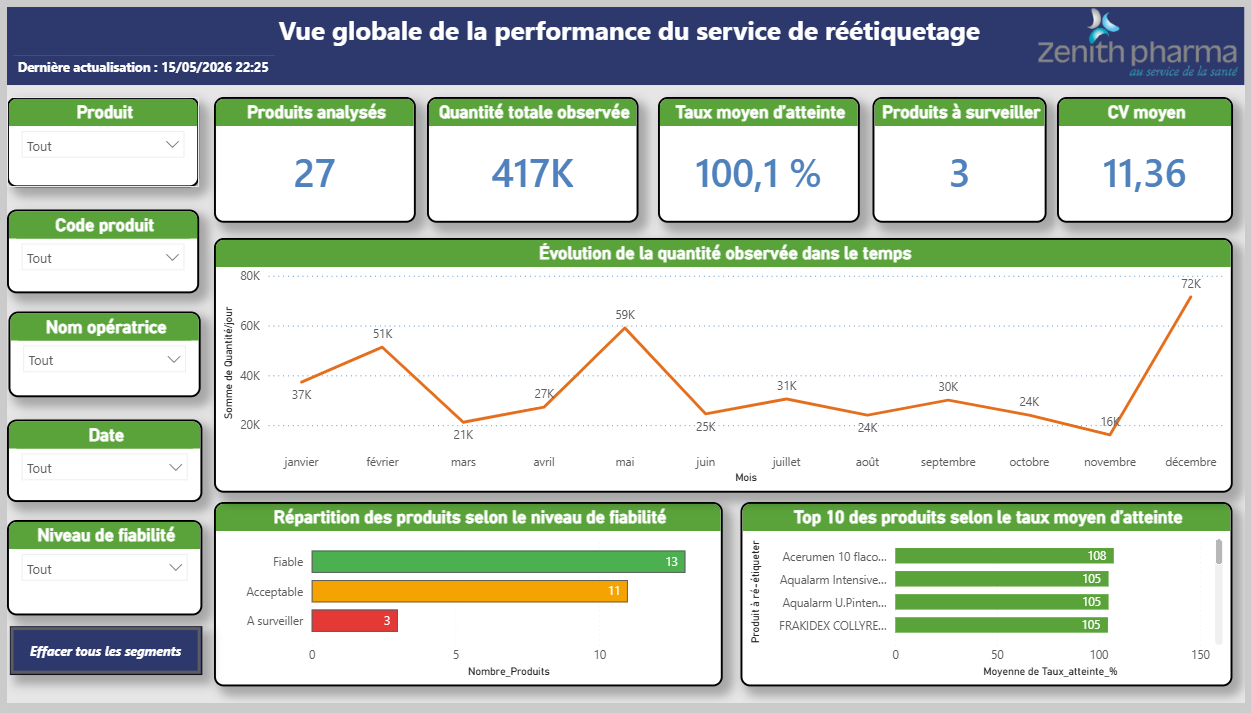

This screenshot's page, from the dashboard's own definition file:
{"tool":"powerbi","page":{"name":"Vue globale de la productivité du service de réétiquetage","canvas":[1280,720],"ordinal":0},"visuals":[{"type":"textbox","box":[0,0,1279.5,80.6],"z":0},{"type":"cardVisual","title":"Produits analysés","fields":{"Data":["Base_enrichie.Nombre_Produits"]},"box":[213.3,93.3,208.3,130],"z":1000},{"type":"image","box":[1059.3,0,220.2,76],"z":2000},{"type":"cardVisual","title":"Quantité totale observée","fields":{"Data":["Base_enrichie.Quantite_Totale"]},"box":[435,93.3,218.3,130],"z":3000},{"type":"cardVisual","title":"Taux moyen d’atteinte","fields":{"Data":["Base_enrichie.Taux_Moyen_Atteinte_Pct"]},"box":[673.3,93.3,208.3,130],"z":4000},{"type":"cardVisual","title":"Produits à surveiller","fields":{"Data":["Base_enrichie.Produits_A_Surveiller"]},"box":[895,93.3,180,130],"z":5000},{"type":"slicer","title":"Code produit","fields":{"Values":["Base_enrichie.Code produit"]},"box":[0,210,198.3,86.7],"z":6000},{"type":"slicer","title":"Produit","fields":{"Values":["Base_enrichie.Produit à ré-étiqueter"]},"box":[0,93.3,198.3,93.3],"z":7000},{"type":"slicer","title":"Nom opératrice","fields":{"Values":["Base_enrichie.nom opérateur"]},"box":[1.7,315,198.3,88.3],"z":8000},{"type":"slicer","title":"Date","fields":{"Values":["Base_enrichie.DATE"]},"box":[0,426.7,201.7,85],"z":9000},{"type":"slicer","title":"Niveau de fiabilité","fields":{"Values":["Base_enrichie.Niveau_fiabilite"]},"box":[0,530,201.7,98.3],"z":10000},{"type":"clusteredBarChart","title":"Répartition des produits selon le niveau de fiabilité","fields":{"Y":["Base_enrichie.Nombre_Produits"],"Category":["Base_enrichie.Niveau_fiabilite"]},"box":[214,511.8,525.8,190.8],"z":11000},{"type":"clusteredBarChart","title":"Top 10 des produits selon le taux moyen d’atteinte","fields":{"Category":["Base_enrichie.Produit à ré-étiqueter"],"Y":["Avg(Base_enrichie.Taux_atteinte_%)"]},"box":[758.4,511.8,508.7,190.8],"z":13000},{"type":"actionButton","box":[3.3,640,198.3,50],"z":14000},{"type":"cardVisual","title":"CV moyen","fields":{"Data":["Base_enrichie.CV_Moyen"]},"box":[1085,93.3,181.7,130],"z":15000},{"type":"lineChart","title":"Évolution de la quantité observée dans le temps","fields":{"Y":["Sum(Base_enrichie.Quantité/jour)"],"Category":["Base_enrichie.DATE.Variation.Hiérarchie de dates.Mois"]},"box":[213.3,238.3,1053.3,263.3],"z":16000},{"type":"tableEx","fields":{"Values":["Base_enrichie.Texte_Mise_A_Jour"]},"box":[0,17.1,294.7,63.6],"z":17000}]}

Visuals, with their boxes in screenshot pixels (x1, y1, x2, y2), scaled from the page's 1280x720 canvas onto the 1251x713 screenshot:
textbox: Rect(0, 0, 1250, 80)
"Produits analysés" cardVisual: Rect(208, 92, 412, 221)
image: Rect(1035, 0, 1250, 75)
"Quantité totale observée" cardVisual: Rect(425, 92, 638, 221)
"Taux moyen d’atteinte" cardVisual: Rect(658, 92, 862, 221)
"Produits à surveiller" cardVisual: Rect(875, 92, 1051, 221)
"Code produit" slicer: Rect(0, 208, 194, 294)
"Produit" slicer: Rect(0, 92, 194, 185)
"Nom opératrice" slicer: Rect(2, 312, 195, 399)
"Date" slicer: Rect(0, 423, 197, 507)
"Niveau de fiabilité" slicer: Rect(0, 525, 197, 622)
"Répartition des produits selon le niveau de fiabilité" clusteredBarChart: Rect(209, 507, 723, 696)
"Top 10 des produits selon le taux moyen d’atteinte" clusteredBarChart: Rect(741, 507, 1238, 696)
actionButton: Rect(3, 634, 197, 683)
"CV moyen" cardVisual: Rect(1060, 92, 1238, 221)
"Évolution de la quantité observée dans le temps" lineChart: Rect(208, 236, 1238, 497)
tableEx - Base_enrichie.Texte_Mise_A_Jour: Rect(0, 17, 288, 80)
